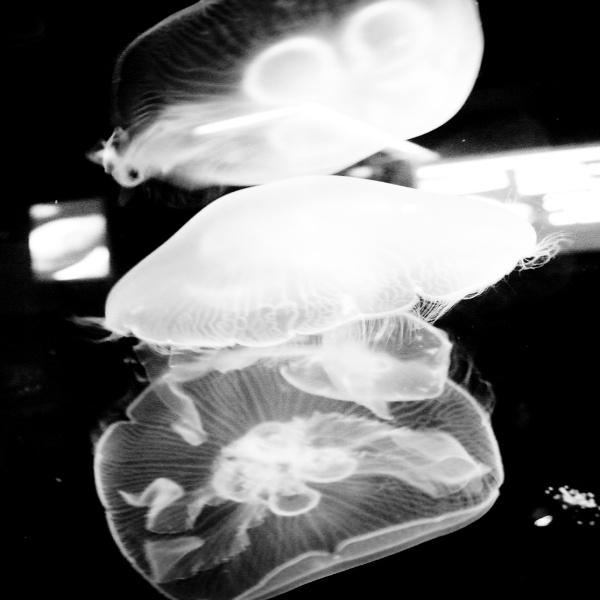Jellyfish: (94, 347, 511, 599), (80, 172, 573, 355), (81, 0, 486, 182)
